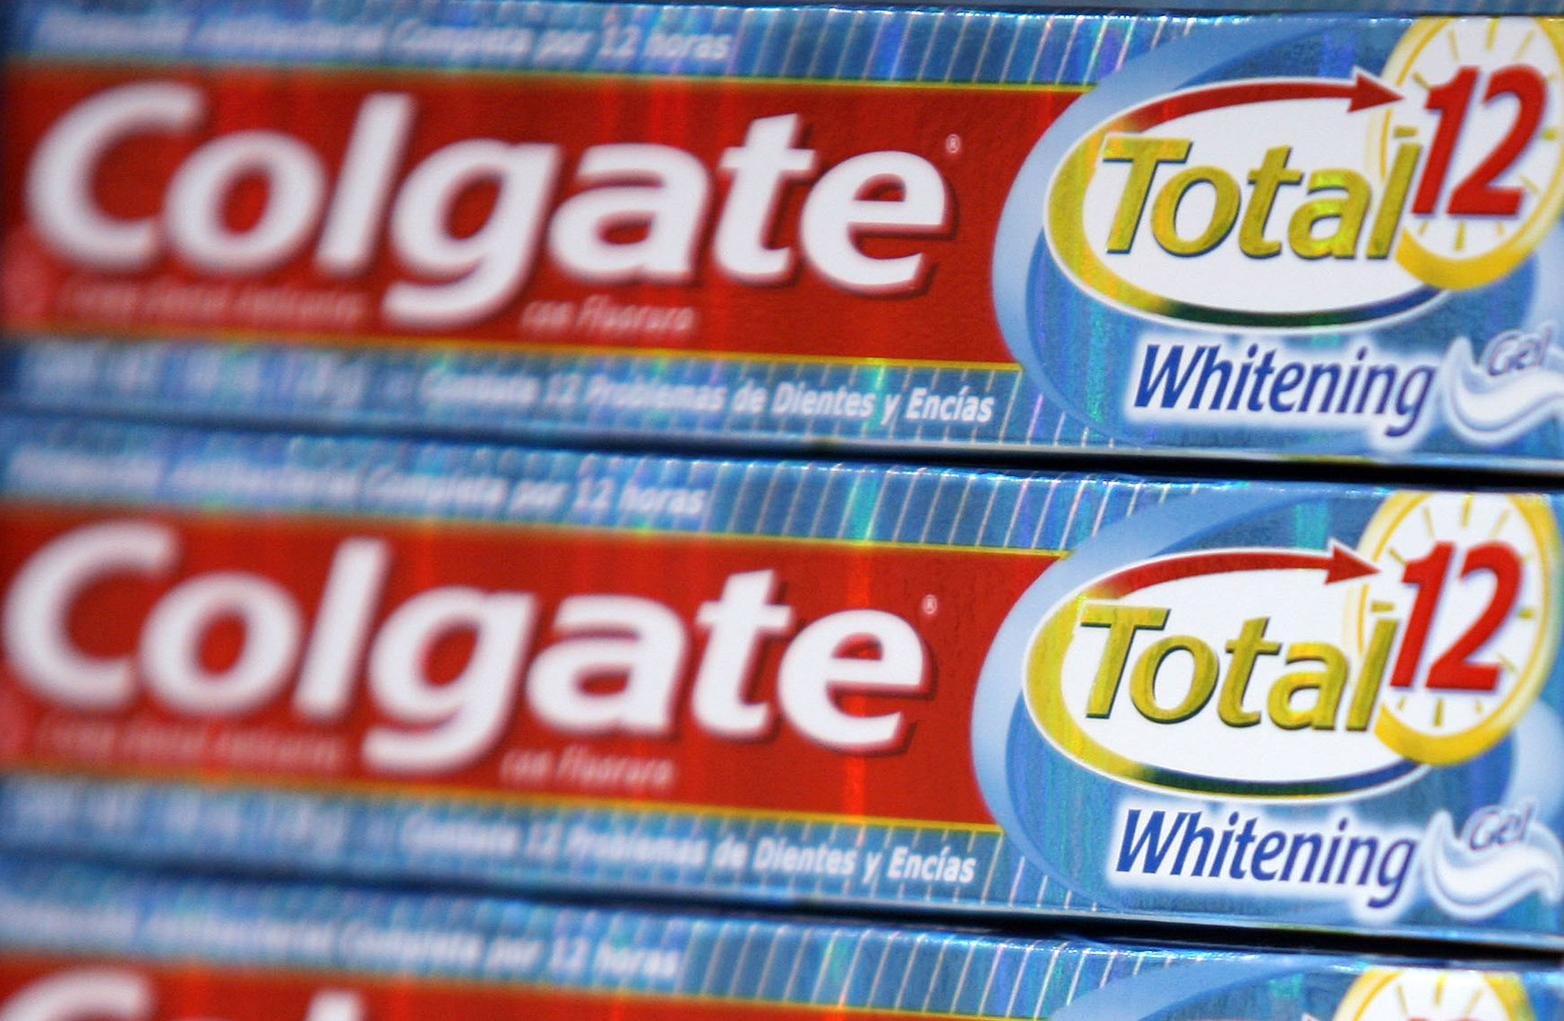toothpaste: (11, 423, 1558, 953), (7, 0, 1564, 483)
